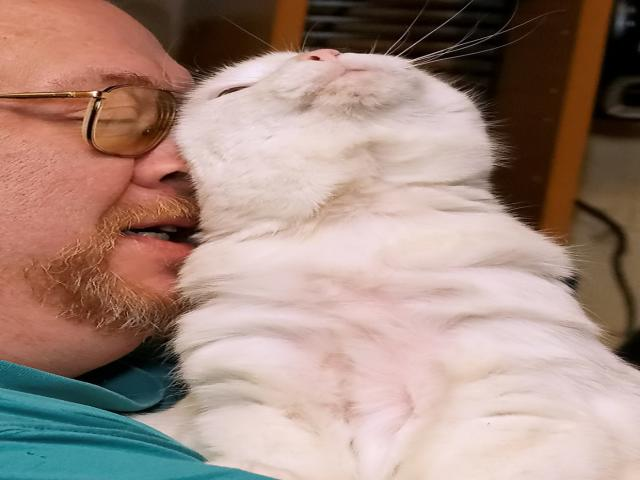Cat: (118, 0, 639, 480)
